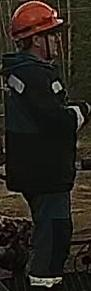gloves: (74, 97, 91, 118)
helmet: (9, 0, 63, 41)
vest: (1, 56, 77, 193)
